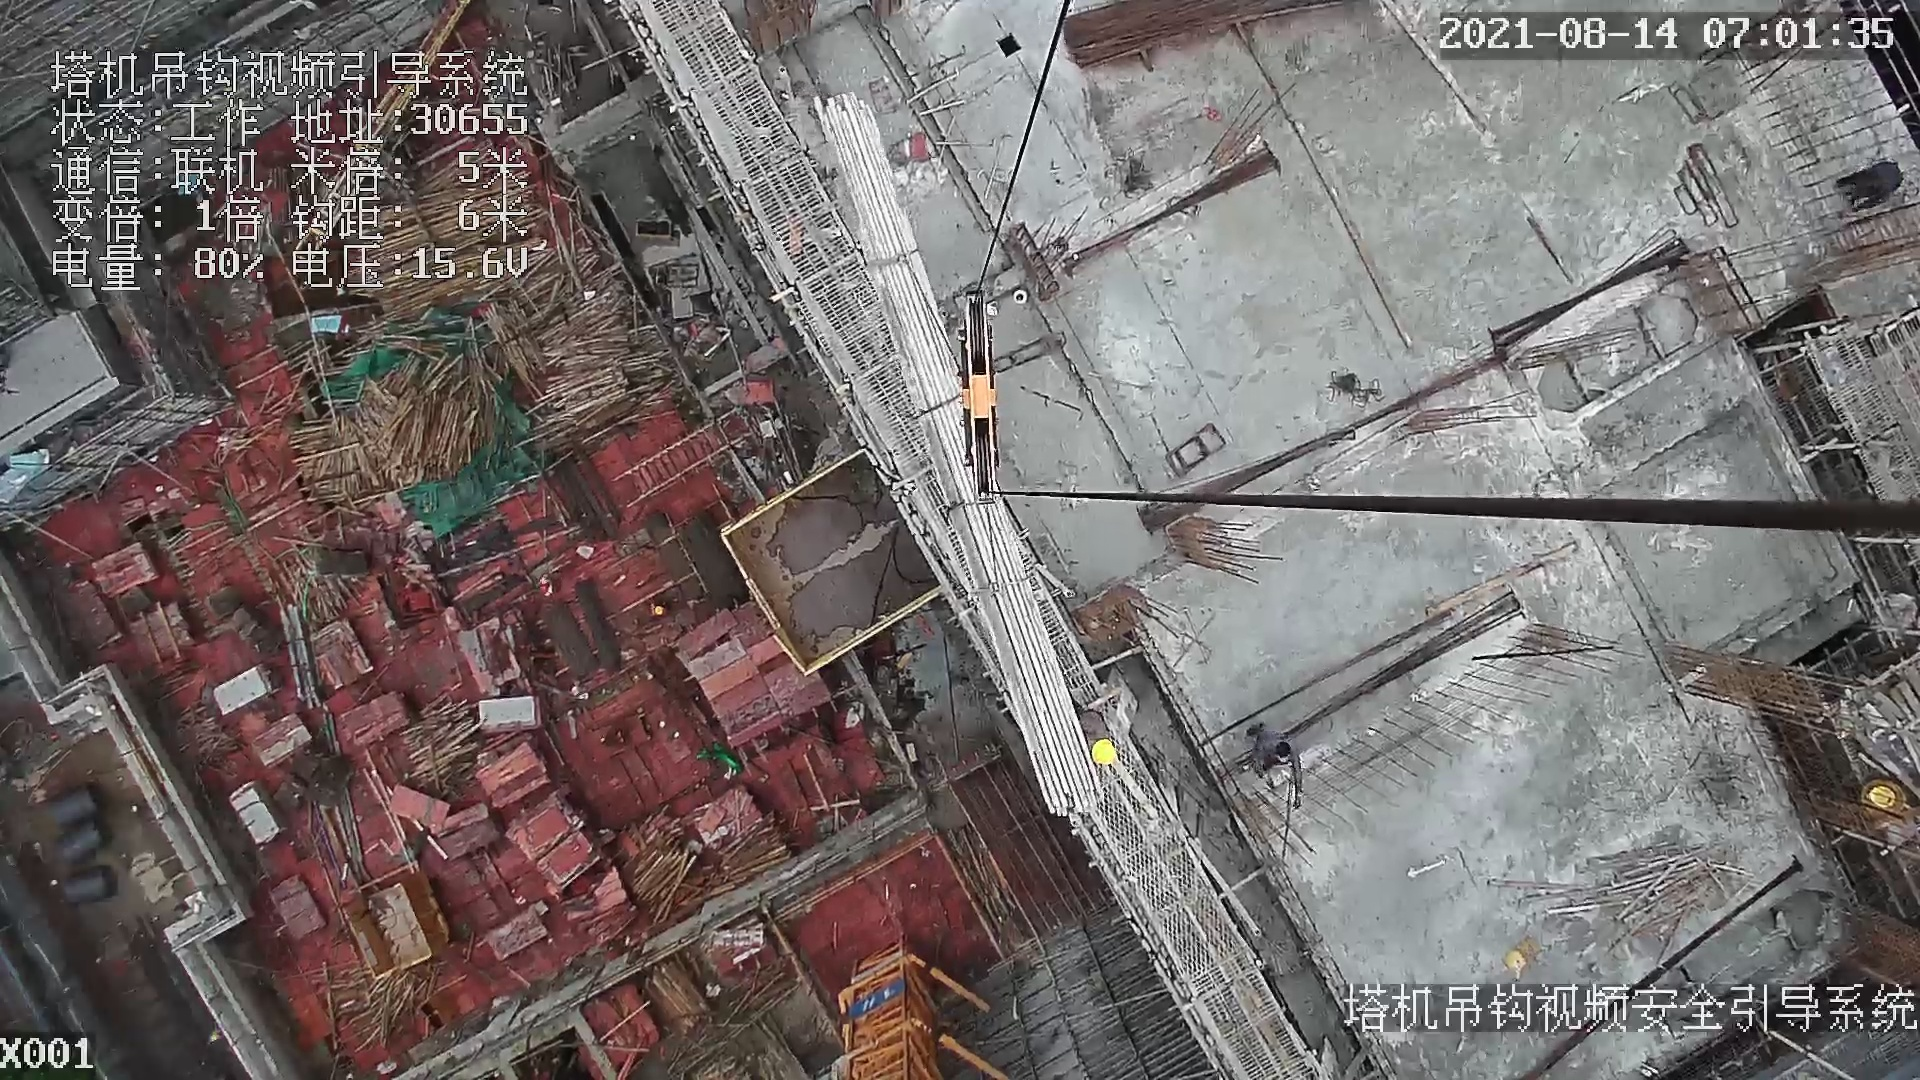helmet: (1086, 731, 1117, 771)
hook: (944, 286, 1005, 510)
person: (1825, 146, 1920, 204), (1246, 722, 1308, 810), (1078, 705, 1122, 771)
